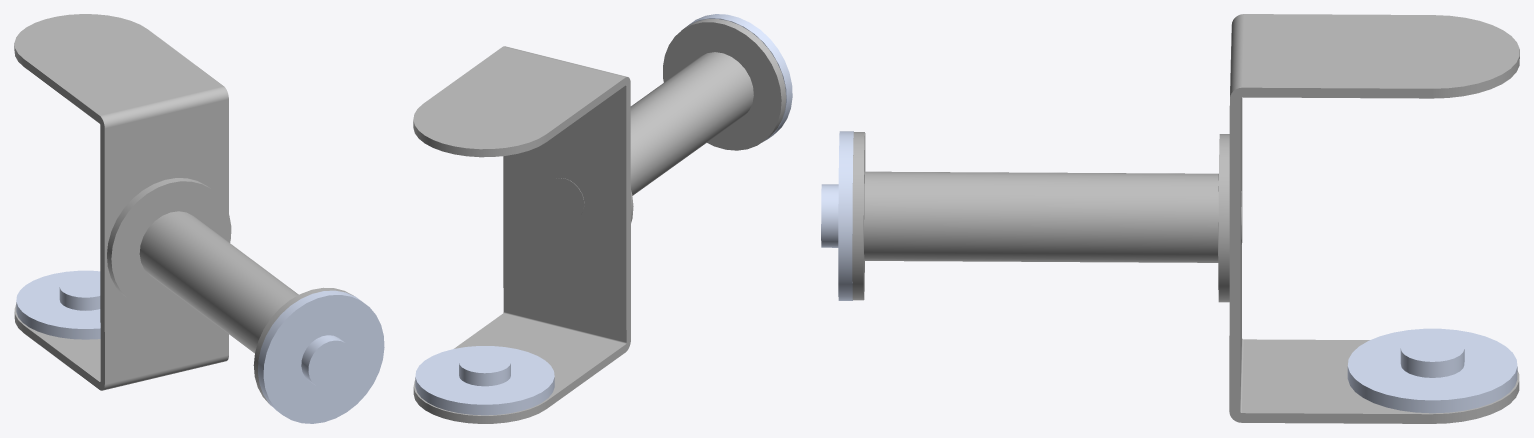
File: forearm.dae
3 renders of one model, left to right at view 1: azimuth 30°, elevation 25°; view 2: azimuth 150°, elevation 25°; view 3: azimuth 270°, elevation 25°, orthographic. The views are drawn at different scales.
Parts seen in each view (by area): view 1: Actor0; view 2: Actor0; view 3: Actor0.
Part boxes in pixels (x1=…): Actor0: x1=14, y1=14, x2=384, y2=423; Actor0: x1=413, y1=14, x2=792, y2=423; Actor0: x1=821, y1=14, x2=1519, y2=423.
Bounding box in the file's own units: 0.0252 × 0.0523 × 0.0987.
